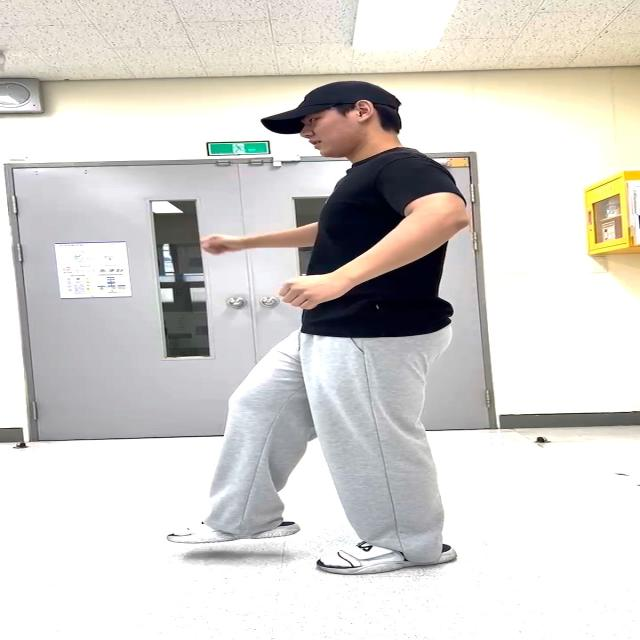leg: (192, 352, 306, 540)
